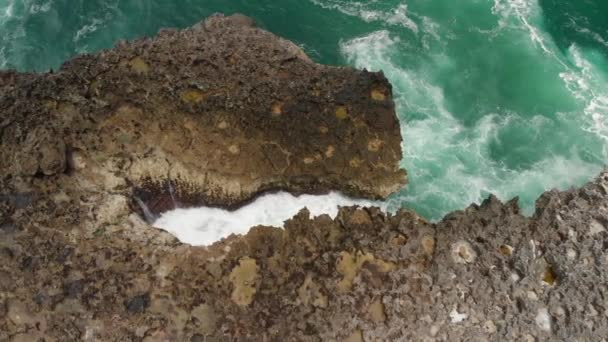volcanic_rock: (361, 217, 604, 342), (1, 79, 135, 236), (3, 240, 172, 342), (155, 42, 309, 100)
